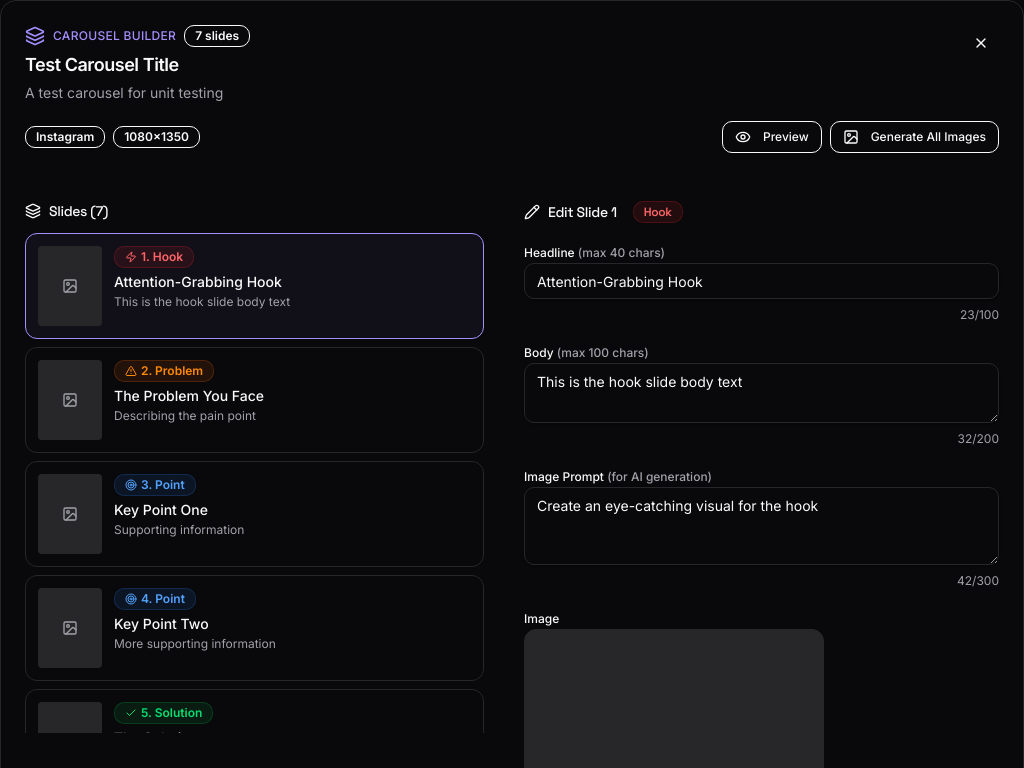
Test case: CarouselBuilder - Slide Management › changes active slide when clicking on slide thumbnail
The image size is (1024, 768).
expect the text "Attention-Grabbing Hook" is shown: met, box [114,273,282,290]
// Click on the third slide (Key Point One)
Click the text "Key Point One" at (161, 510), box [114,501,208,518]
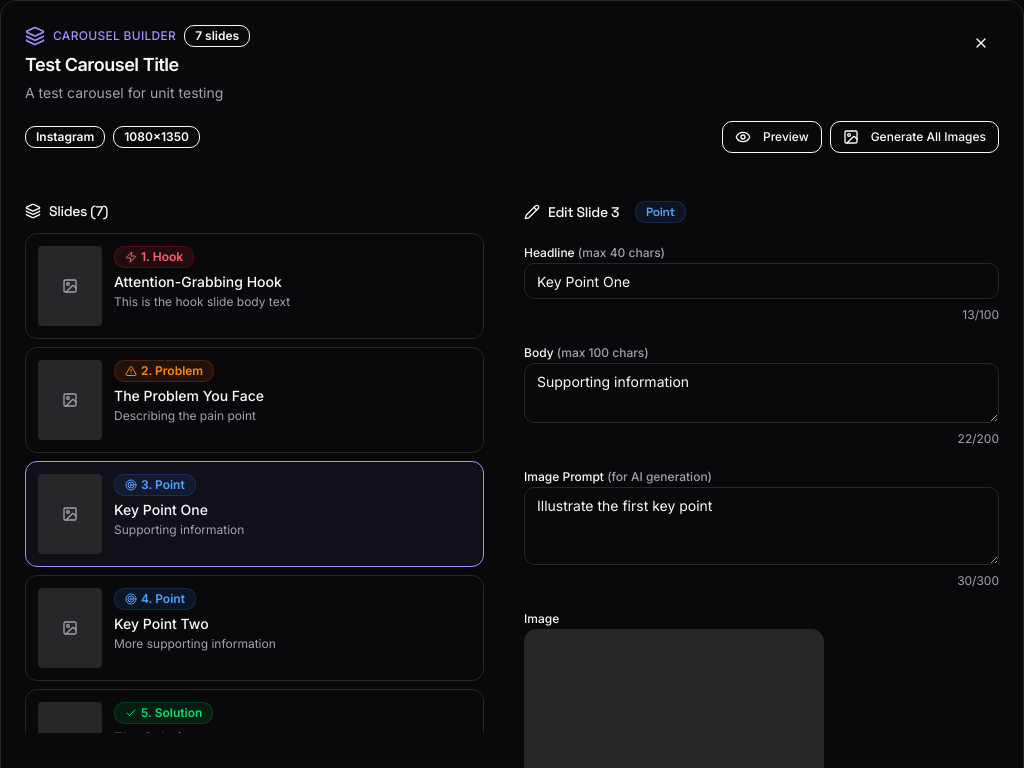
expect the heading "Edit Slide 3 Point" is shown: met, box [524,201,686,223]
